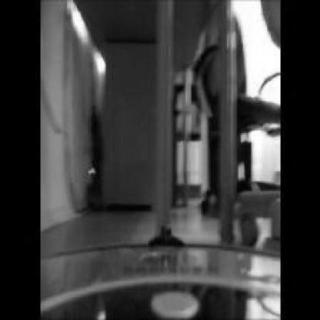other: (69, 6, 111, 78)
